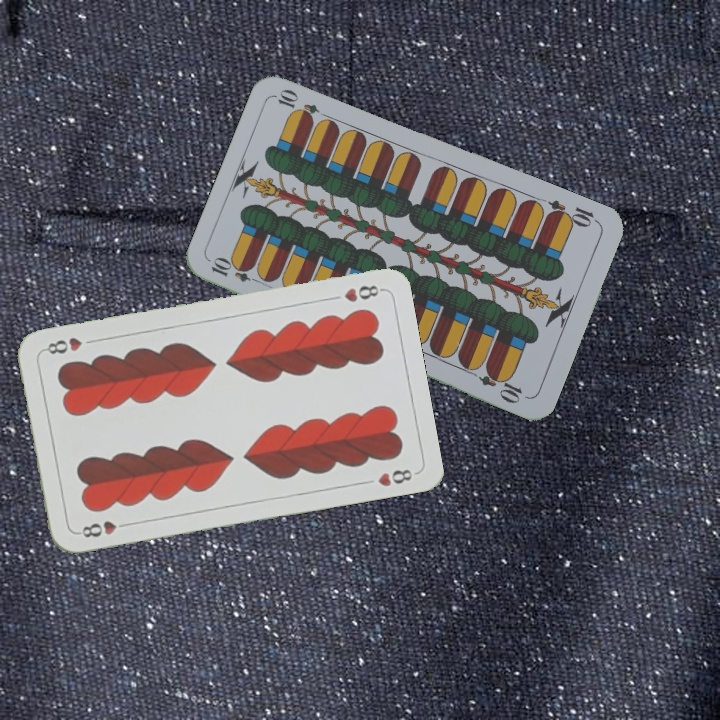E10: (543, 195, 602, 230), (207, 255, 265, 287)
H8: (73, 516, 132, 540), (340, 281, 385, 305)
